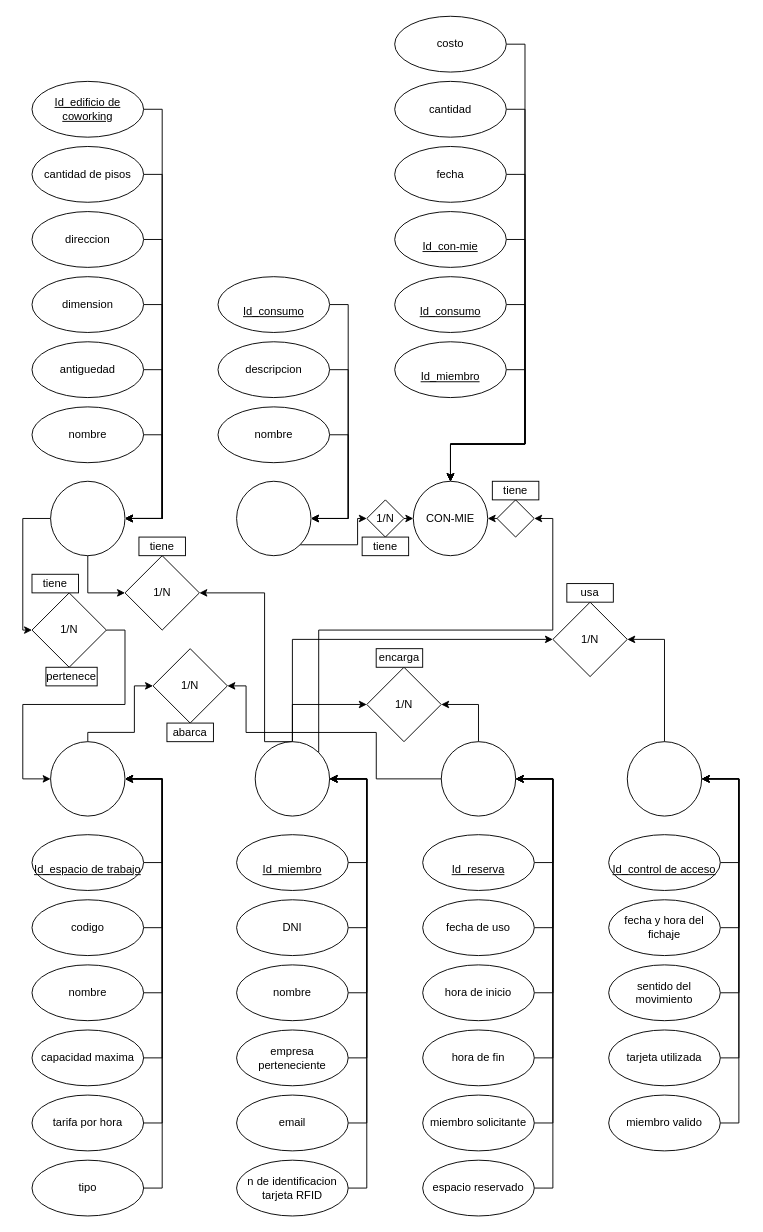
The diagram is 763 pixels wide and 1232 high, and some of its shapes have lost their labels. Here are the shapes that lost their labels. From the top down, the centre of each, then its label:
[87,518]: EDIFICIO DE COWORKING
[273,518]: CONSUMO
[515,518]: N/1
[87,778]: ESPACIO DE TRABAJO
[292,778]: MIEMBRO
[478,778]: RESERVA
[664,778]: CONTROL DE ACCESO
